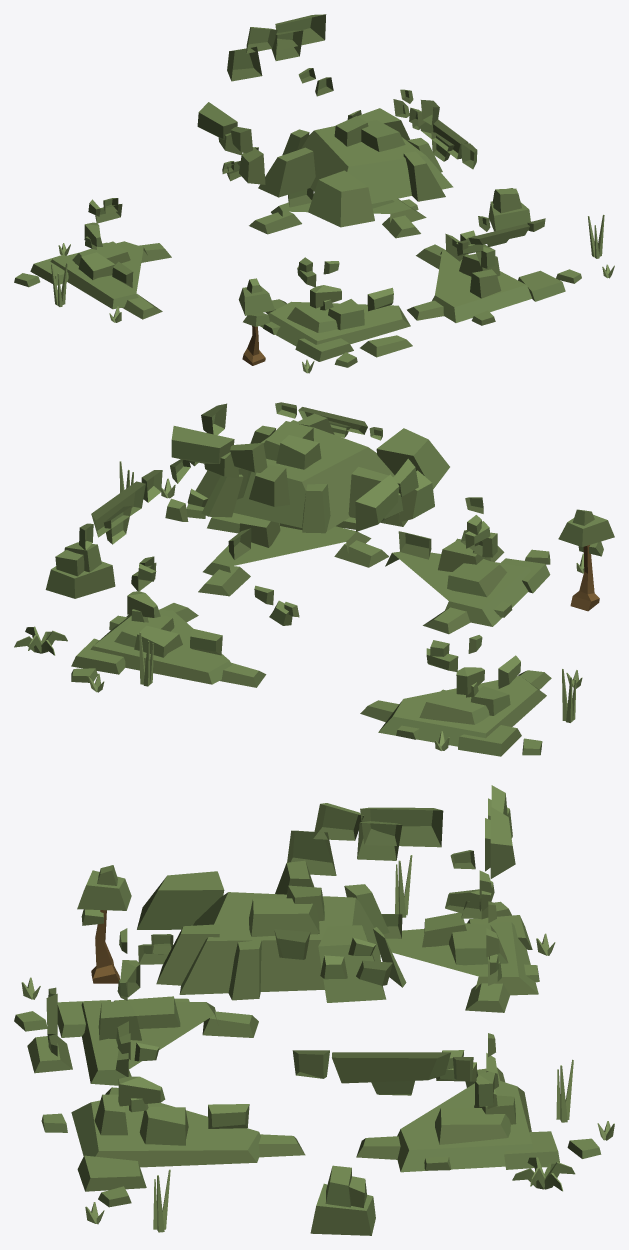
File: SA_Bld_House_Growth_02.gltf
3 views of the same model, one above another, from view 1: azimuth 30°, elevation 25°; view 2: azimuth 150°, elevation 25°; view 3: azimuth 270°, elevation 25° (orthographic). The views are drawn at different scales.
Visible parts, largest first — view 1: SA_Bld_House_Growth_02; view 2: SA_Bld_House_Growth_02; view 3: SA_Bld_House_Growth_02.
Part boxes in pixels (bbox=[...]): SA_Bld_House_Growth_02: bbox=[14, 14, 614, 373]; SA_Bld_House_Growth_02: bbox=[14, 402, 614, 756]; SA_Bld_House_Growth_02: bbox=[14, 785, 614, 1235].
Size of the model in its own units: 29.03 by 12.36 by 22.55.
1 material, 1 textured.
